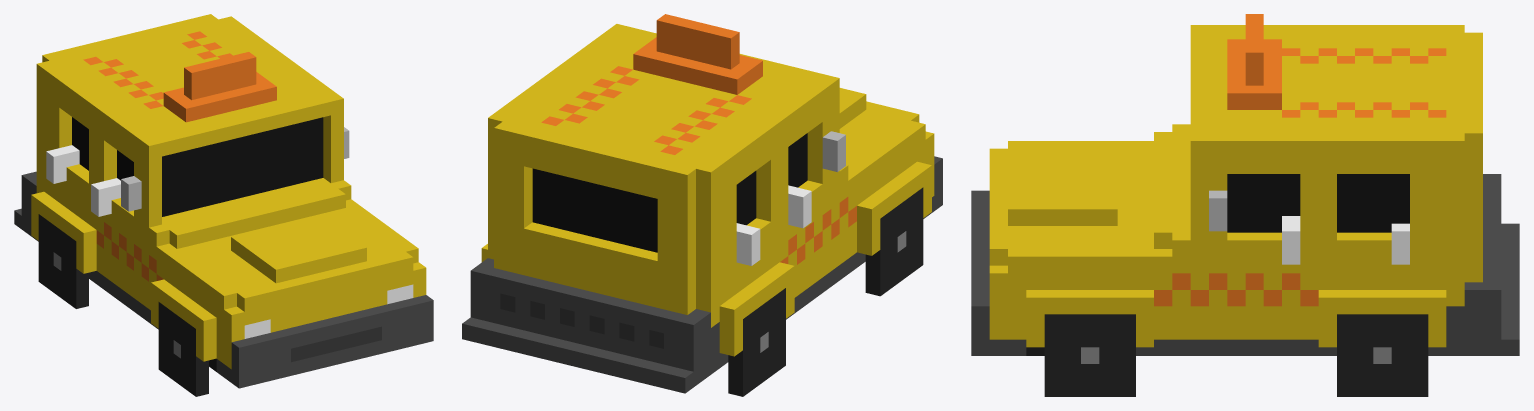
The model's file is taxi.obj.
3 views of the same model, side by side, from view 1: azimuth 30°, elevation 25°; view 2: azimuth 150°, elevation 25°; view 3: azimuth 270°, elevation 25° (orthographic). The views are drawn at different scales.
Parts seen in each view (by area): view 1: Untitled.002; view 2: Untitled.002; view 3: Untitled.002.
Boxes of the visible parts, left/top/right/bottom form: Untitled.002: left=14, top=14, right=433, bottom=396; Untitled.002: left=462, top=14, right=942, bottom=396; Untitled.002: left=971, top=14, right=1519, bottom=396.
Size of the model in its own units: 1.7 by 1.8 by 3.
1 material, 1 textured.
